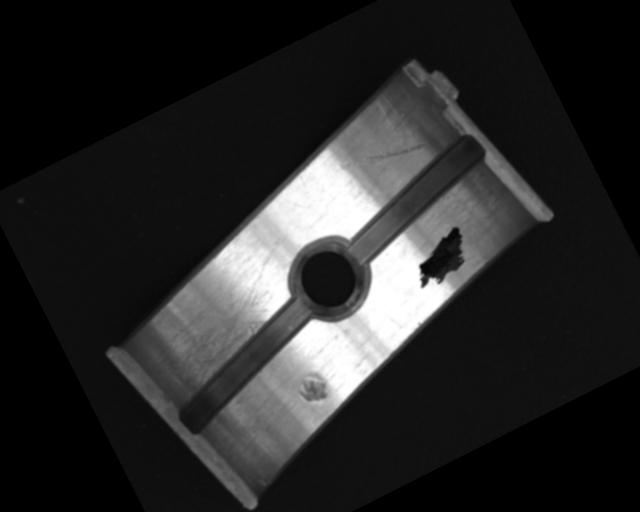blot: (400, 223, 478, 293)
bruise: (291, 365, 334, 409)
gap: (153, 292, 336, 436), (324, 130, 503, 268)
hole: (279, 229, 379, 328)
nick: (337, 124, 429, 187)
scratch: (128, 254, 307, 403)
